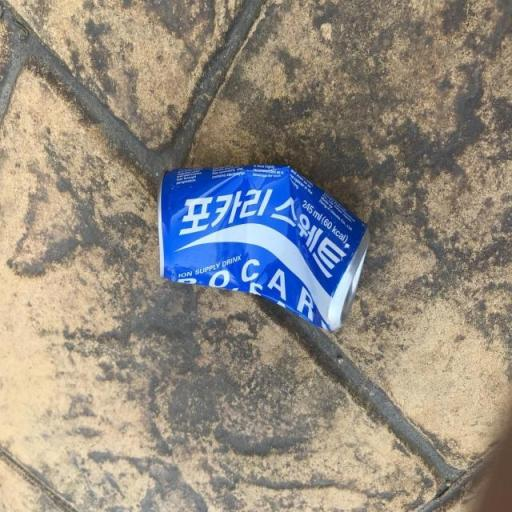metal: (136, 149, 390, 359)
